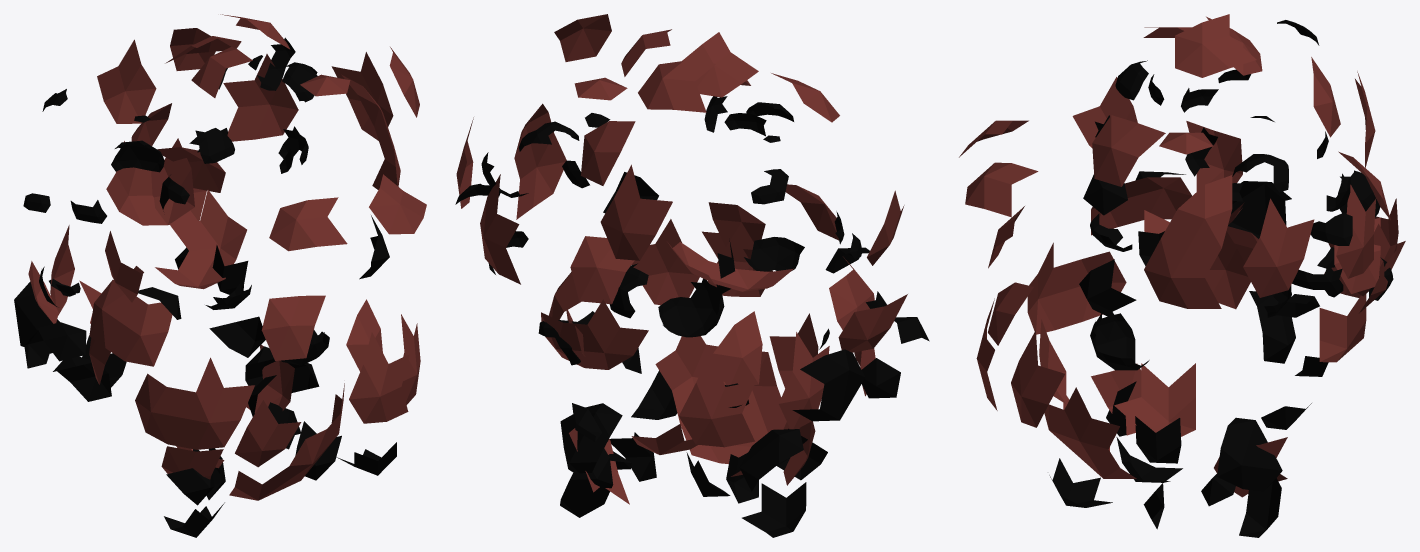
File: explode.f0008.glb
3 views of the same model, side by side, from view 1: azimuth 30°, elevation 25°; view 2: azimuth 150°, elevation 25°; view 3: azimuth 270°, elevation 25° (orthographic). The views are drawn at different scales.
Visible parts, largest first — view 1: Body.001; view 2: Body.001; view 3: Body.001.
Part boxes in pixels (x1,y1,x2,y2): Body.001: [14, 14, 426, 537]; Body.001: [455, 14, 929, 537]; Body.001: [959, 14, 1405, 537].
Size of the model in its own units: 4.34 by 5.07 by 4.1.
1 material, 1 textured.
